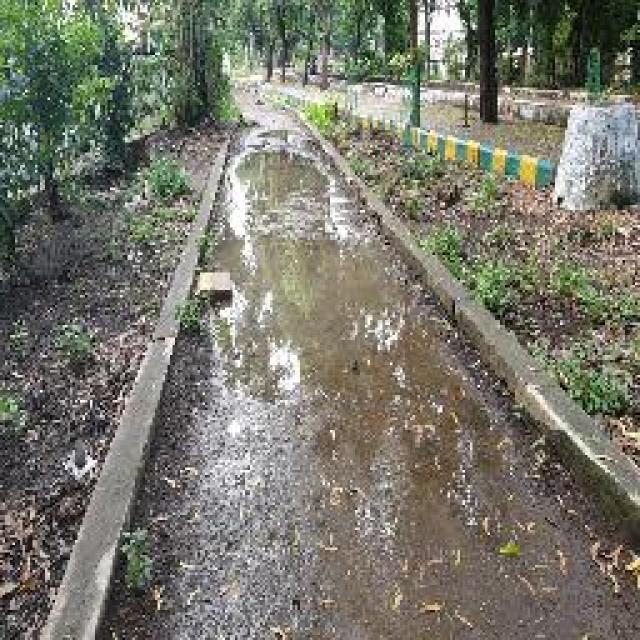waterlogging: (247, 146, 333, 388)
